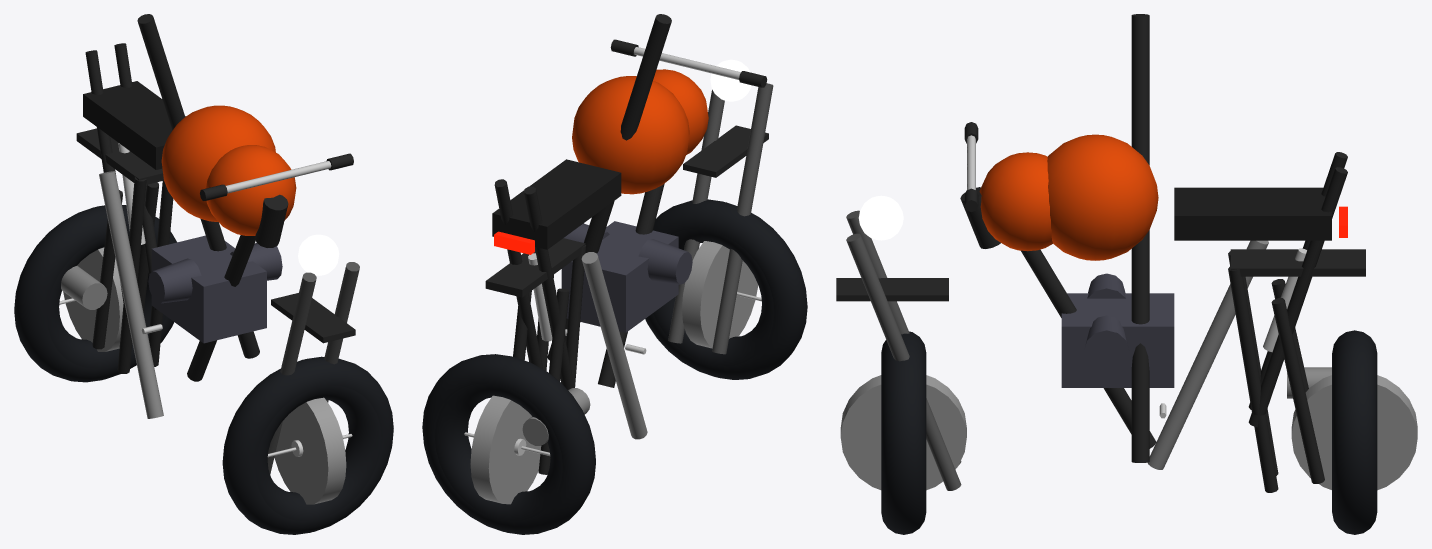
Rendered from vehicle_bike.glb.
3 views of the same model, side by side, from view 1: azimuth 30°, elevation 25°; view 2: azimuth 150°, elevation 25°; view 3: azimuth 270°, elevation 25° (orthographic). The views are drawn at different scales.
Visible parts, largest first — view 1: chassis, wheel_FL, wheel_RL, wheel_FR, wheel_RR; view 2: chassis, wheel_RL, wheel_FL, wheel_RR, wheel_FR; view 3: chassis, wheel_RR, wheel_FR, wheel_RL, wheel_FL.
Boxes of the visible parts, x1,y1,x2,y2 form: chassis: (61, 14, 359, 474); wheel_FL: (222, 359, 381, 534); wheel_RL: (14, 207, 166, 382); wheel_FR: (255, 356, 393, 531); wheel_RR: (47, 205, 176, 379); chassis: (485, 14, 773, 474); wheel_RL: (434, 357, 595, 534); wheel_FL: (653, 202, 807, 379); wheel_RR: (422, 354, 562, 531); wheel_FR: (645, 199, 774, 376); chassis: (836, 14, 1365, 492); wheel_RR: (1291, 341, 1417, 534); wheel_FR: (840, 341, 966, 534); wheel_RL: (1291, 330, 1417, 433); wheel_FL: (840, 331, 966, 434).
Size of the model in its own units: 0.92 by 2.37 by 2.58.
